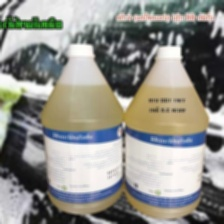cleaning_solution: (120, 43, 210, 220), (39, 43, 128, 217)
